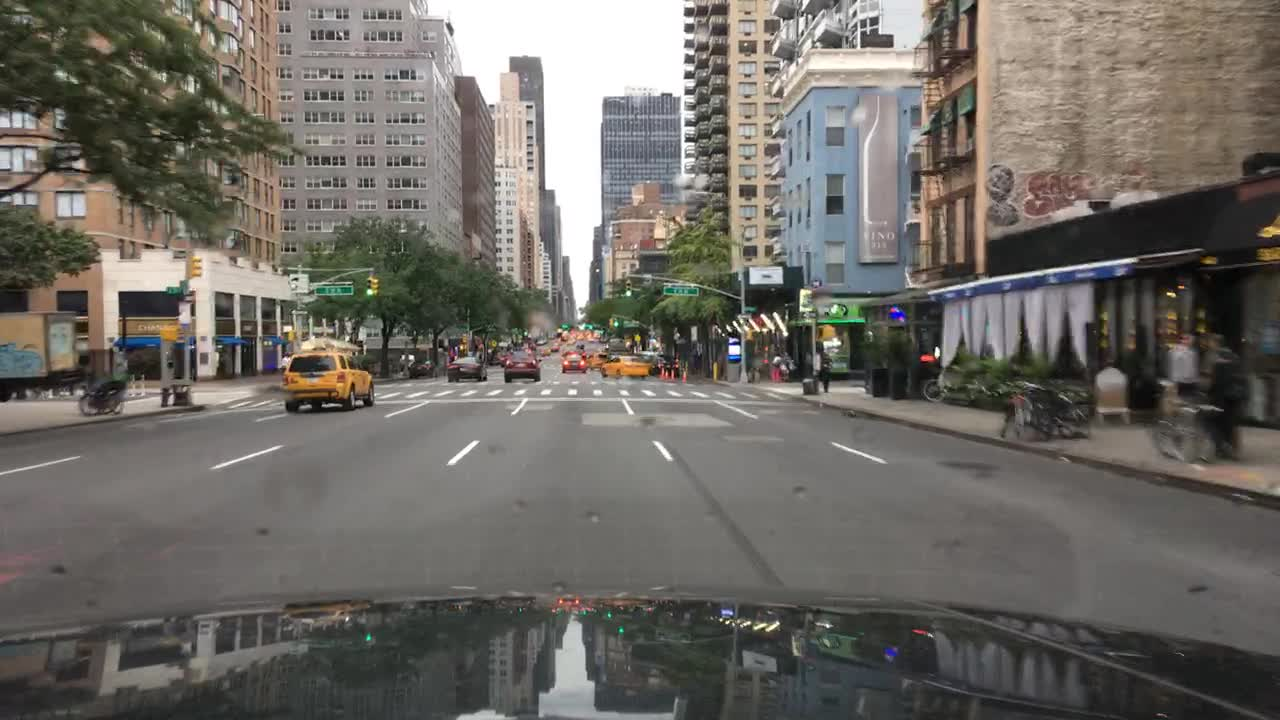bike: (917, 369, 968, 398)
car: (283, 350, 377, 408), (598, 356, 653, 381), (446, 353, 490, 381), (507, 353, 543, 382), (638, 350, 678, 372), (406, 355, 438, 378), (564, 353, 586, 375), (590, 350, 612, 370), (606, 336, 626, 353), (492, 346, 512, 362), (533, 342, 549, 356), (546, 339, 561, 350), (572, 341, 589, 350)
person: (1206, 335, 1258, 461), (1169, 322, 1207, 398), (810, 336, 831, 390)
traffic light: (159, 324, 177, 341), (189, 255, 202, 278), (821, 324, 837, 338), (622, 279, 632, 296), (364, 276, 371, 298), (613, 316, 622, 332), (558, 322, 570, 333), (371, 279, 378, 295), (461, 332, 470, 344), (586, 319, 593, 332), (745, 327, 750, 339)
traffic sign: (662, 283, 702, 298), (288, 273, 311, 289), (315, 286, 351, 295), (180, 301, 189, 326), (165, 284, 186, 292), (742, 306, 759, 313)
truck: (1, 310, 79, 396)
